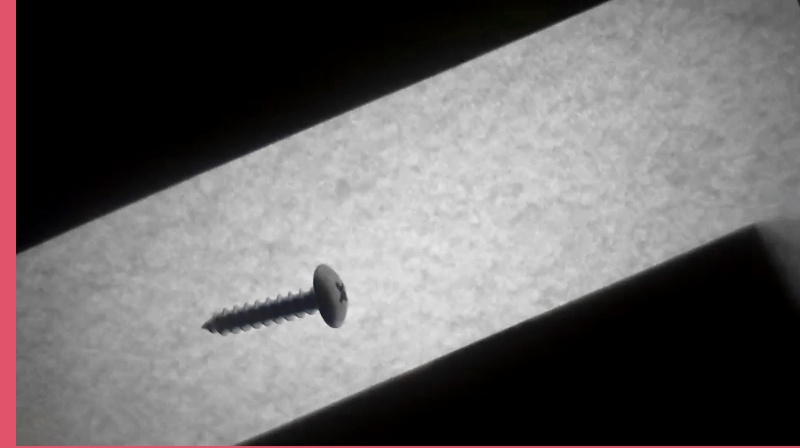S003: (196, 258, 351, 338)
